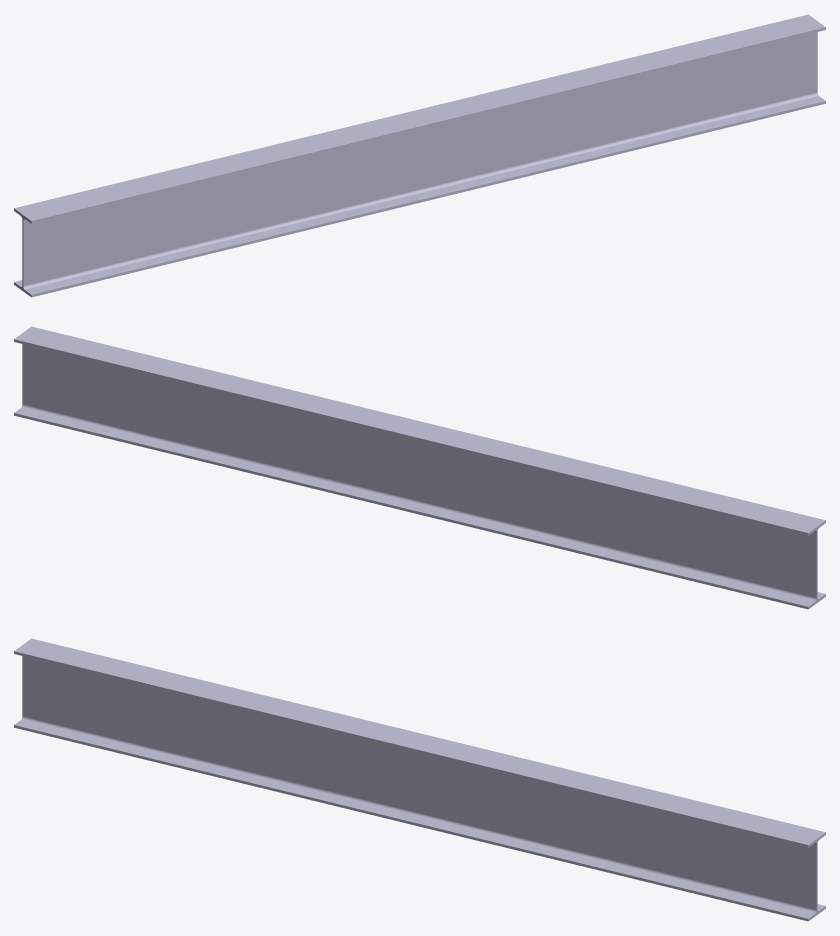
File: ISSUE-002-target.glb
3 views of the same model, one above another, from view 1: azimuth 30°, elevation 25°; view 2: azimuth 150°, elevation 25°; view 3: azimuth 330°, elevation 25° (orthographic).
Visible parts, largest first — view 1: 3316; view 2: 3316; view 3: 3316.
Part boxes in pixels (x1,y1,x2,y2): 3316: (14,14,825,297); 3316: (14,326,825,609); 3316: (14,638,825,921).
Size of the model in its own units: 5 by 0.4597 by 0.1913.
